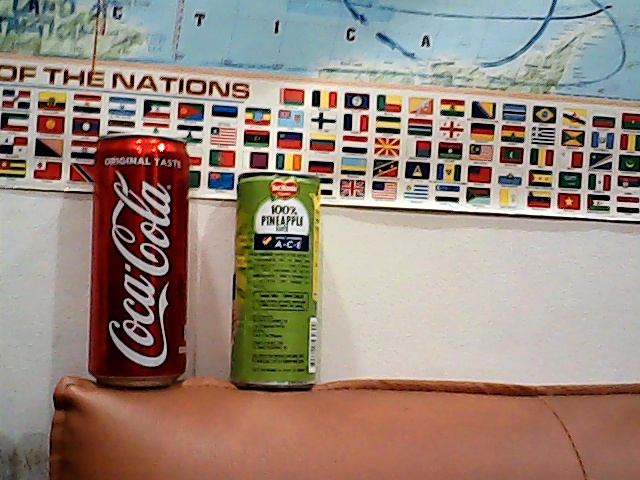Cola: (82, 127, 201, 403)
Pine Juice: (212, 152, 341, 399)
